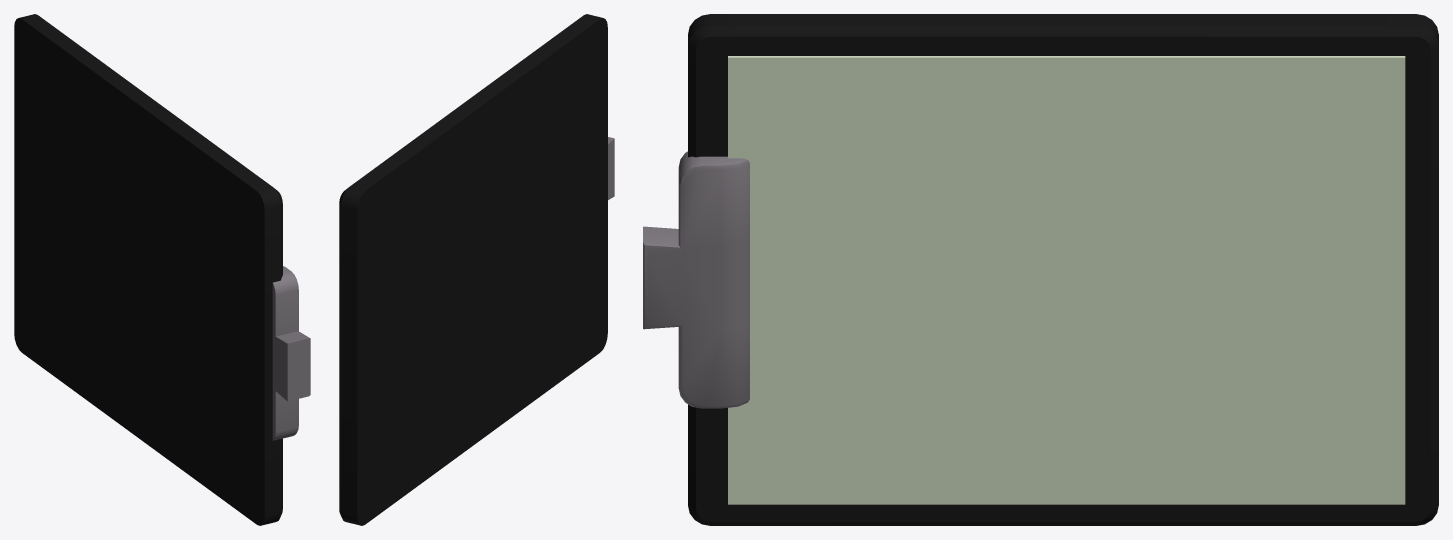
File: clipboard.glb
3 views of the same model, side by side, from view 1: azimuth 30°, elevation 25°; view 2: azimuth 150°, elevation 25°; view 3: azimuth 270°, elevation 25° (orthographic). The views are drawn at different scales.
Visible parts, largest first — view 1: Cube; view 2: Cube; view 3: Cube.
Part boxes in pixels (<box>): Cube: <box>14,14,310,525</box>; Cube: <box>339,14,614,525</box>; Cube: <box>643,14,1438,525</box>.
Bounding box in the file's own units: 0.0298 × 0.2924 × 0.4216.
